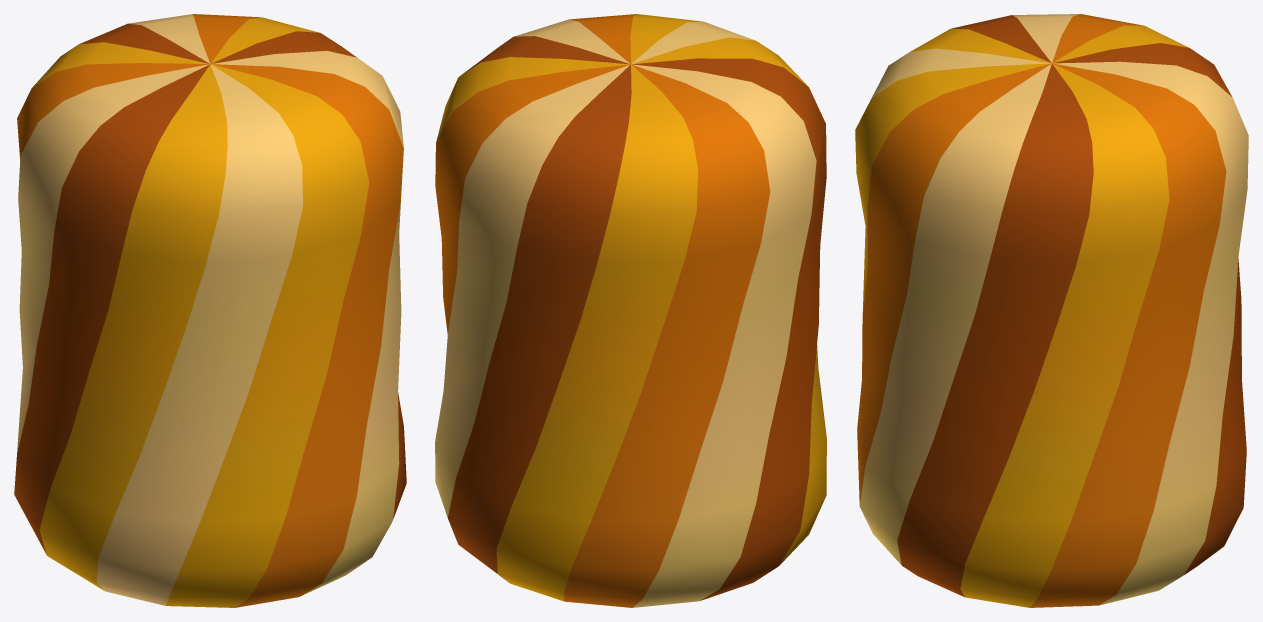
File: candy_hard_21.fbx
The picture shows the model from 3 angles, left to right: view 1: azimuth 30°, elevation 25°; view 2: azimuth 150°, elevation 25°; view 3: azimuth 270°, elevation 25°; orthographic projection.
Parts seen in each view (by area): view 1: c_h_21; view 2: c_h_21; view 3: c_h_21.
Boxes of the visible parts, x1,y1,x2,y2 form: c_h_21: (14,14,406,607); c_h_21: (435,14,826,607); c_h_21: (855,14,1248,607).
Size of the model in its own units: 118 by 163 by 118.
